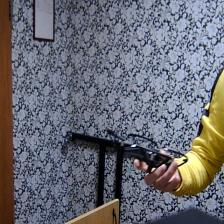drone: (103, 121, 195, 179)
